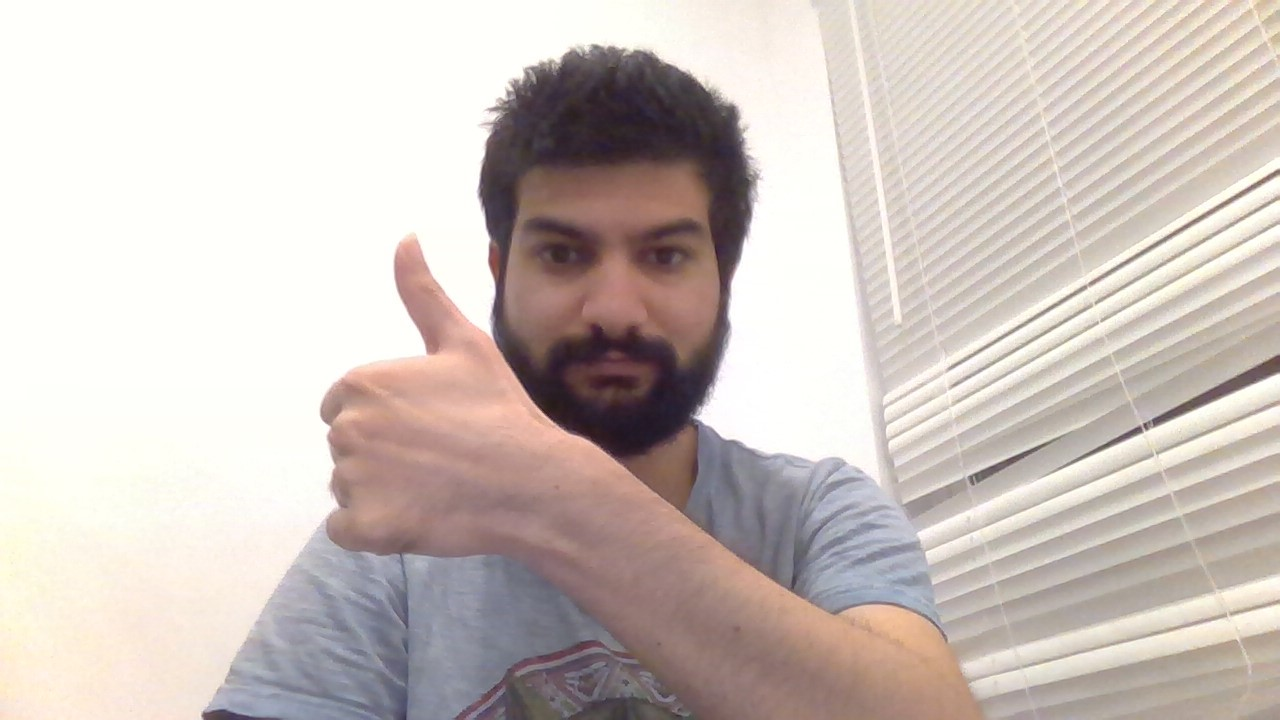up: (321, 223, 514, 561)
